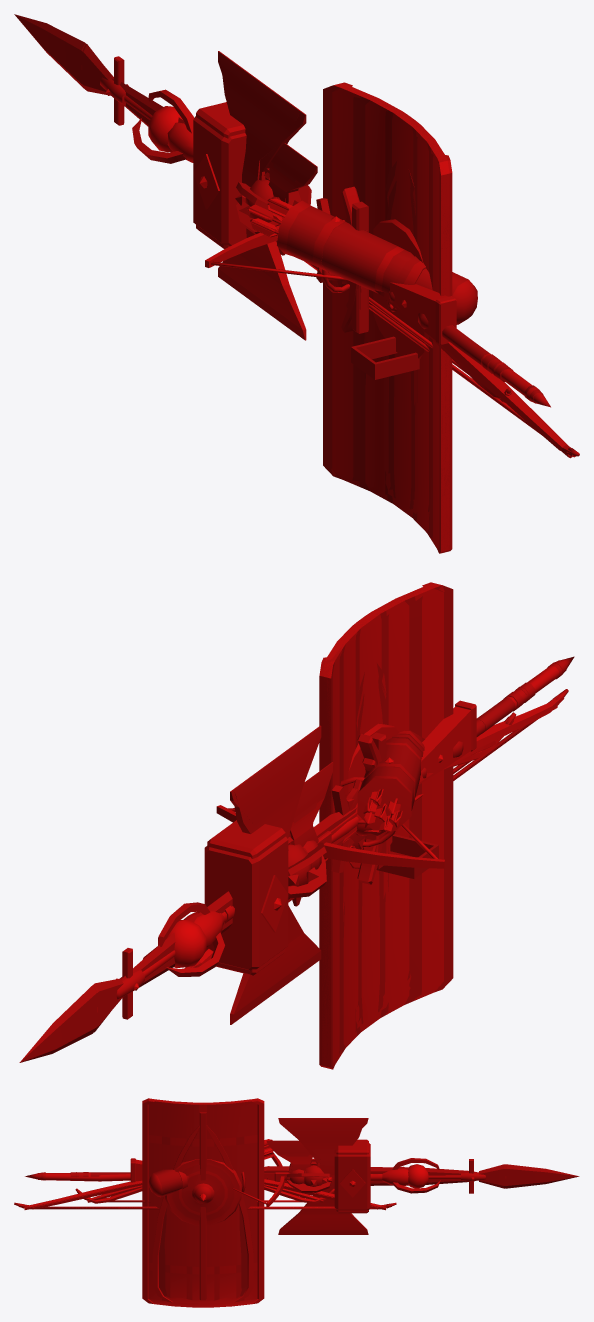
Rendered from weapons.glb.
The picture shows the model from 3 angles, top to bottom: view 1: azimuth 30°, elevation 25°; view 2: azimuth 150°, elevation 25°; view 3: azimuth 270°, elevation 25°; orthographic projection. The views are drawn at different scales.
Parts seen in each view (by area): view 1: shd_shieldTower_F, shd_shieldTower_S, qvr_quiver_S, wpn_greataxe_S, shd_shieldKite_F, wpn_maul_F, wpn_greataxe_F, wpn_crossbow_F, wpn_staff_S, wpn_spear_S, wpn_maul_S, wpn_longbow_F (+11 smaller); view 2: shd_shieldTower_F, shd_shieldTower_S, wpn_maul_F, wpn_greataxe_S, shd_shieldKite_F, wpn_crossbow_F, qvr_quiver_S, wpn_greatsword_S, wpn_staff_S, wpn_spear_S, wpn_greataxe_F, wpn_maul_S (+11 smaller); view 3: shd_shieldTower_S, shd_shieldTower_F, shd_shieldBuckler_S, wpn_greataxe_S, shd_shieldKite_S, wpn_greataxe_F, wpn_maul_F, wpn_spear_S, wpn_longbow_S, wpn_longbow_F, wpn_staff_S, wpn_staff_F (+10 smaller).
Part boxes in pixels (x1=…): shd_shieldTower_F: x1=331, y1=83, x2=449, y2=553; shd_shieldTower_S: x1=323, y1=82, x2=452, y2=553; qvr_quiver_S: x1=277, y1=200, x2=477, y2=324; wpn_greataxe_S: x1=218, y1=51, x2=507, y2=378; shd_shieldKite_F: x1=351, y1=160, x2=429, y2=522; wpn_maul_F: x1=193, y1=116, x2=500, y2=373; wpn_greataxe_F: x1=220, y1=53, x2=513, y2=381; wpn_crossbow_F: x1=205, y1=225, x2=447, y2=339; wpn_staff_S: x1=132, y1=89, x2=550, y2=407; wpn_spear_S: x1=14, y1=14, x2=128, y2=125; wpn_maul_S: x1=193, y1=102, x2=460, y2=343; wpn_longbow_F: x1=304, y1=261, x2=572, y2=458; shd_shieldTower_F: x1=322, y1=583, x2=444, y2=1069; shd_shieldTower_S: x1=319, y1=582, x2=453, y2=1069; wpn_maul_F: x1=204, y1=691, x2=522, y2=970; wpn_greataxe_S: x1=230, y1=686, x2=530, y2=1024; shd_shieldKite_F: x1=343, y1=671, x2=438, y2=1028; wpn_crossbow_F: x1=216, y1=706, x2=471, y2=868; qvr_quiver_S: x1=357, y1=730, x2=424, y2=830; wpn_greatsword_S: x1=121, y1=733, x2=384, y2=987; wpn_staff_S: x1=143, y1=656, x2=574, y2=976; wpn_spear_S: x1=19, y1=948, x2=144, y2=1062; wpn_greataxe_F: x1=233, y1=682, x2=535, y2=833; wpn_maul_S: x1=207, y1=719, x2=485, y2=975; shd_shieldTower_S: x1=142, y1=1098, x2=264, y2=1307; shd_shieldTower_F: x1=142, y1=1098, x2=264, y2=1300; shd_shieldBuckler_S: x1=165, y1=1159, x2=241, y2=1225; wpn_greataxe_S: x1=75, y1=1118, x2=368, y2=1234; shd_shieldKite_S: x1=152, y1=1125, x2=253, y2=1303; wpn_greataxe_F: x1=70, y1=1118, x2=365, y2=1190; wpn_maul_F: x1=83, y1=1143, x2=370, y2=1210; wpn_spear_S: x1=461, y1=1159, x2=579, y2=1193; wpn_longbow_S: x1=14, y1=1182, x2=396, y2=1209; wpn_longbow_F: x1=24, y1=1179, x2=386, y2=1210; wpn_staff_S: x1=25, y1=1158, x2=440, y2=1193; wpn_staff_F: x1=38, y1=1166, x2=408, y2=1185.
Bounding box in the file's own units: 0.6244 × 1.06 × 2.69.
